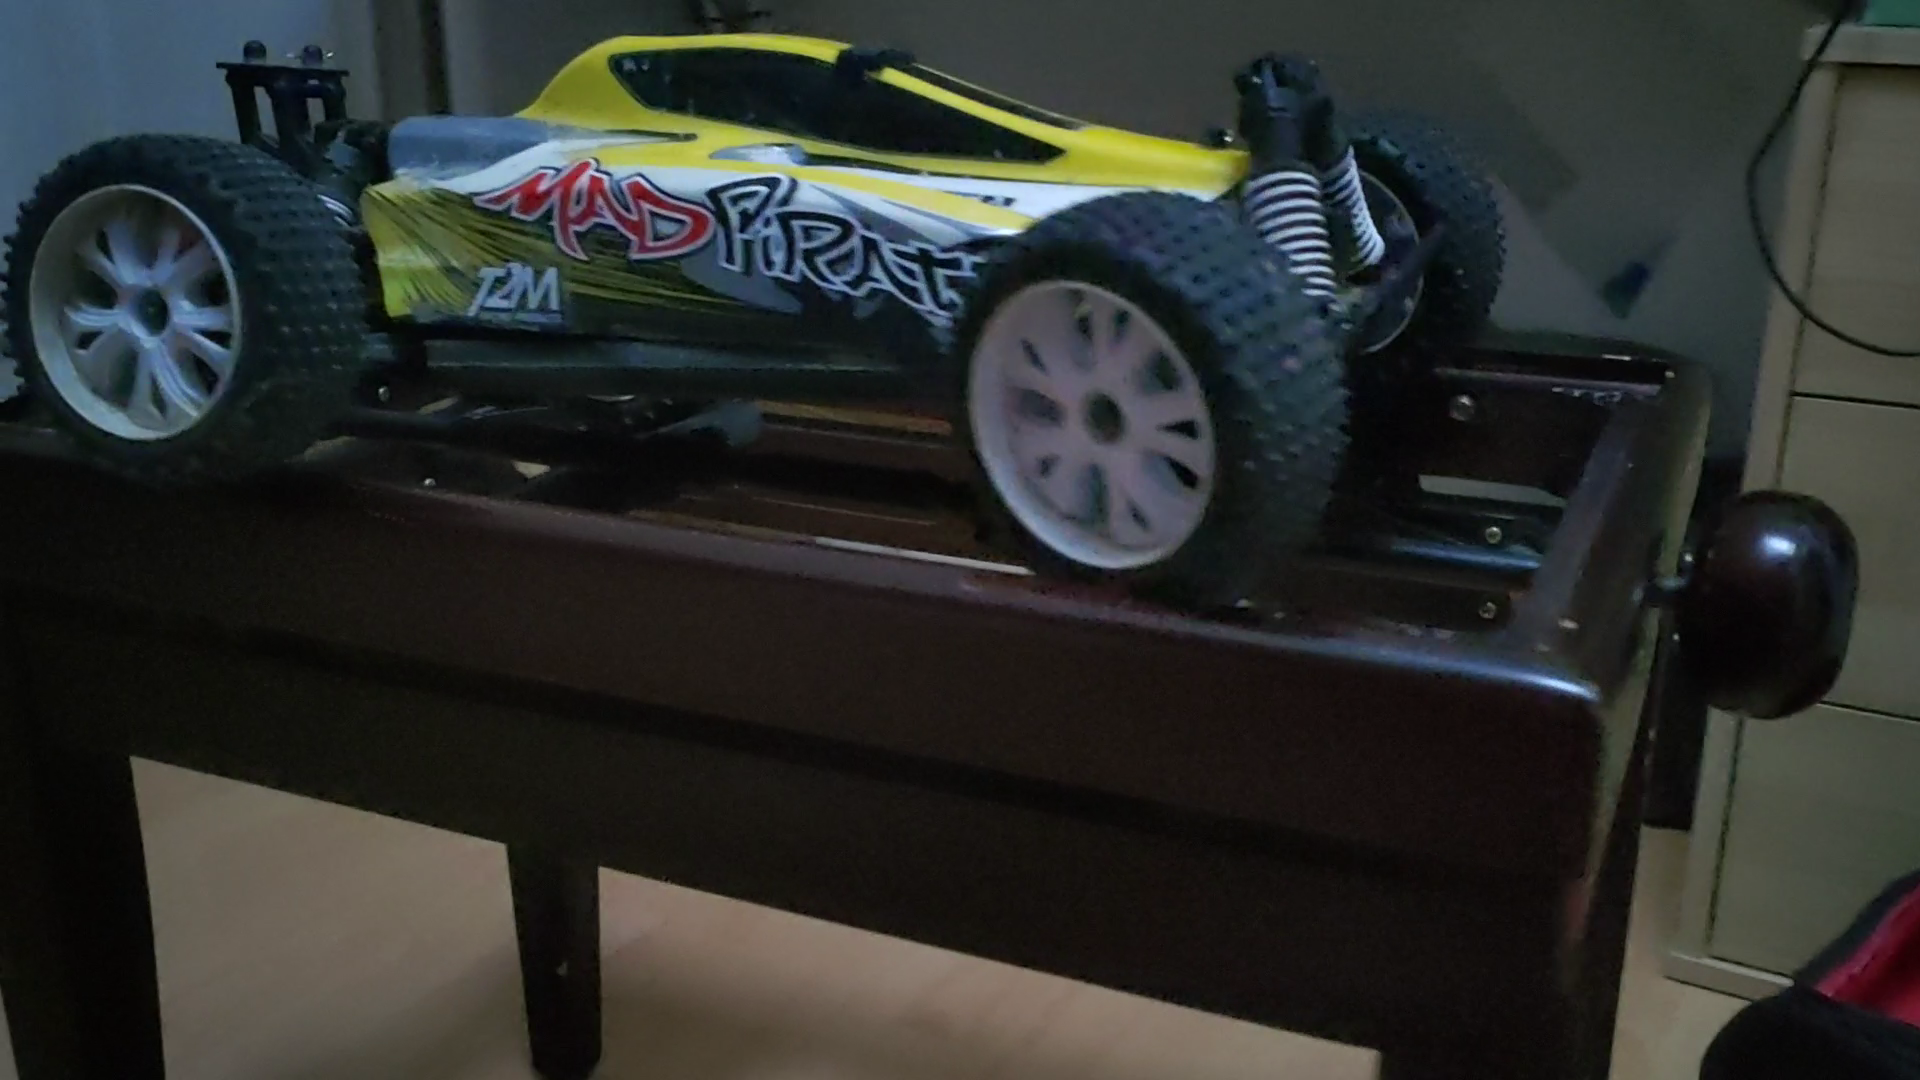buggy: (18, 21, 1502, 605)
